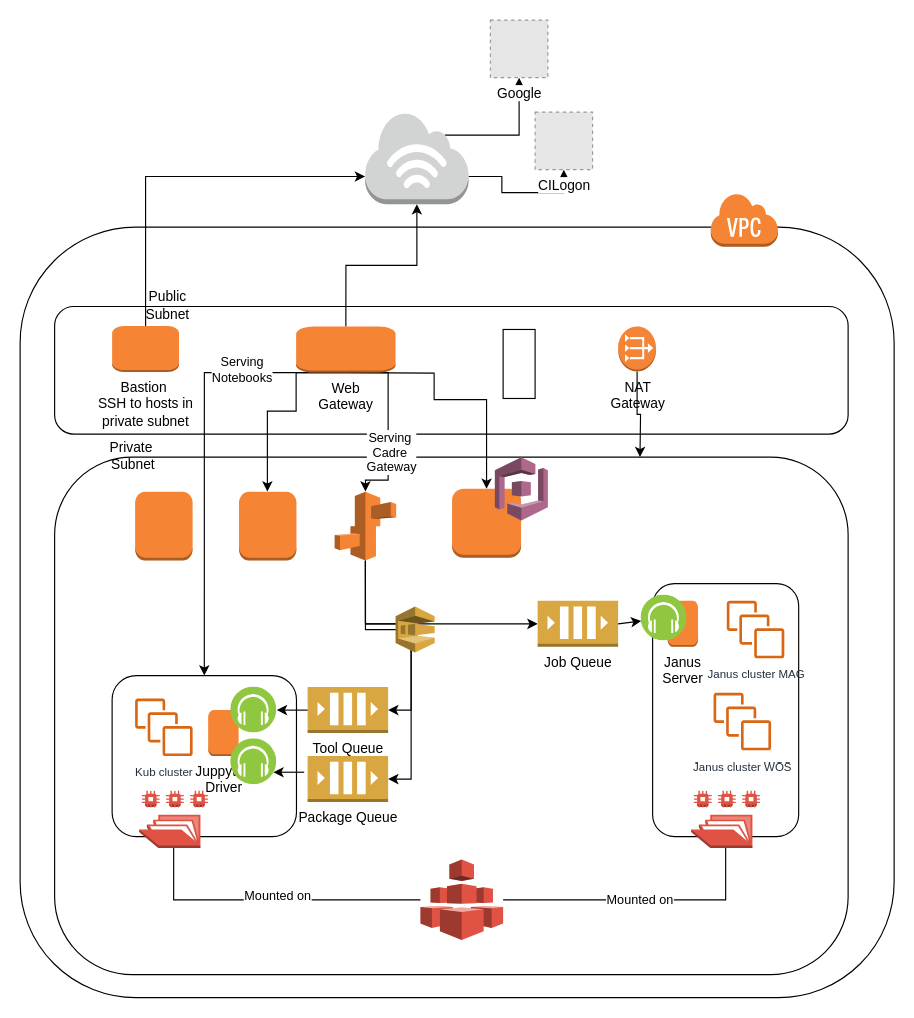
This 914x1018 diagram has some shape labels left out. Grey dashed boxes stand in for pictures. Here are the shapes that lost their labels. From the top down, the box of each, then its label:
(502, 328, 535, 398): Security Group
(134, 490, 193, 561): Cadre Meta database
(238, 490, 296, 561): Cadre Website
(334, 490, 396, 561): Marketplace Interface Beanstalk / EC2
(451, 488, 521, 558): Cadre Login Server
(419, 858, 503, 940): EFS
